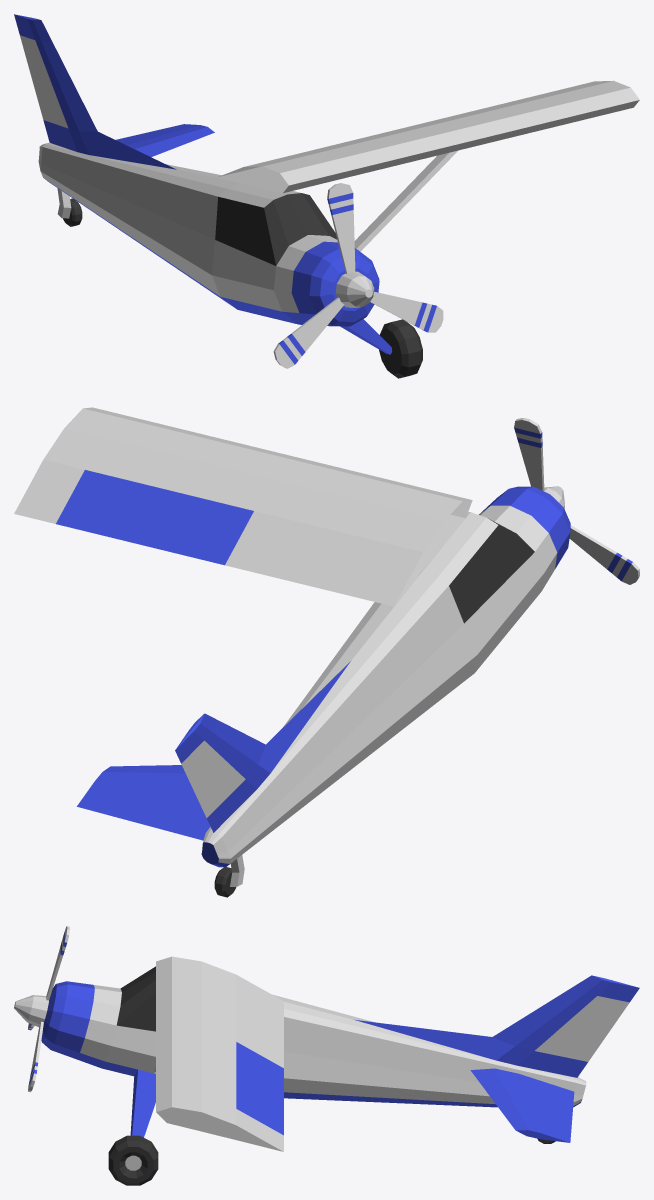
File: plane_embeded.gltf
3 views of the same model, one above another, from view 1: azimuth 30°, elevation 25°; view 2: azimuth 150°, elevation 25°; view 3: azimuth 270°, elevation 25° (orthographic). The views are drawn at different scales.
Visible parts, largest first — view 1: Plane, Plane.035, Circle.001, Circle.004, Plane.001, Plane.003, Circle.002, Circle.008, Plane.002, Circle.007, Circle.003; view 2: Plane.035, Plane, Circle.001, Circle.002, Plane.003, Plane.001; view 3: Plane, Plane.035, Circle.001, Circle.002, Circle.004, Circle.003, Circle.007, Plane.001, Plane.002.
Part boxes in pixels (bbox=[...]): Plane: bbox=[38, 142, 379, 326]; Plane.035: bbox=[217, 80, 639, 193]; Circle.001: bbox=[14, 14, 176, 169]; Circle.004: bbox=[379, 319, 422, 378]; Plane.001: bbox=[327, 183, 355, 274]; Plane.003: bbox=[273, 297, 344, 368]; Circle.002: bbox=[116, 124, 214, 157]; Circle.008: bbox=[354, 150, 458, 251]; Plane.002: bbox=[370, 291, 443, 332]; Circle.007: bbox=[335, 271, 374, 307]; Circle.003: bbox=[340, 319, 392, 354]; Plane.035: bbox=[14, 407, 472, 606]; Plane: bbox=[201, 486, 570, 867]; Circle.001: bbox=[175, 661, 350, 832]; Circle.002: bbox=[77, 765, 210, 840]; Plane.003: bbox=[569, 525, 639, 584]; Plane.001: bbox=[514, 418, 544, 491]; Plane: bbox=[41, 966, 586, 1107]; Plane.035: bbox=[156, 956, 283, 1151]; Circle.001: bbox=[355, 975, 639, 1077]; Circle.002: bbox=[470, 1068, 574, 1142]; Circle.004: bbox=[108, 1135, 158, 1185]; Circle.003: bbox=[130, 1069, 155, 1137]; Circle.007: bbox=[14, 995, 48, 1027]; Plane.001: bbox=[46, 926, 69, 1000]; Plane.002: bbox=[28, 1021, 43, 1092].
Size of the model in its own units: 5.11 by 2.71 by 7.23.
